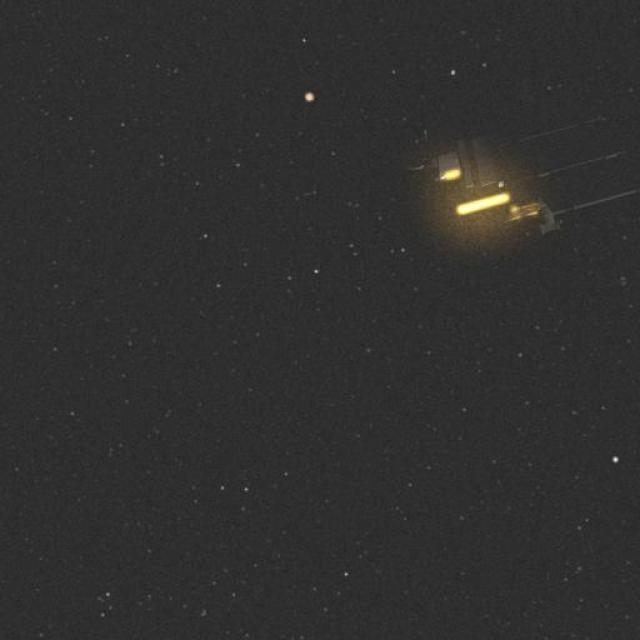earth_observation_sat_1: (425, 116, 620, 248)
